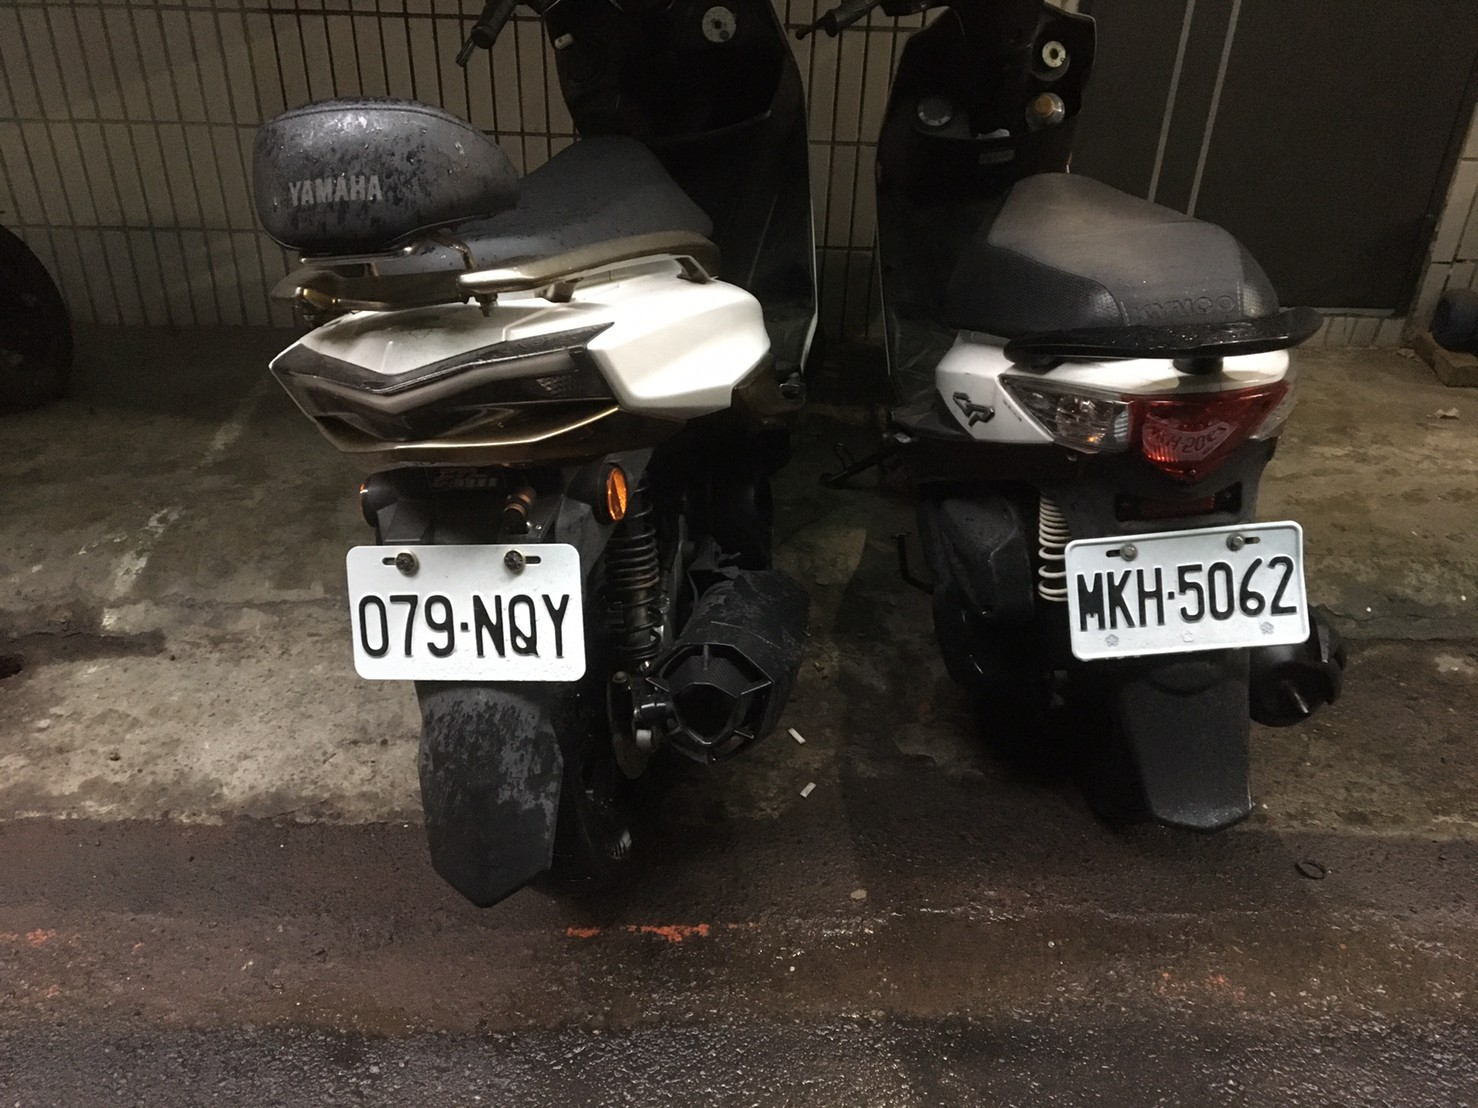LP: (341, 536, 590, 686), (1062, 530, 1312, 652)
